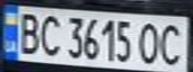1: (97, 16, 118, 62)
3: (63, 13, 84, 60)
5: (115, 17, 139, 64)
6: (81, 15, 103, 61)
B: (12, 9, 42, 55)
C: (154, 19, 187, 66), (36, 11, 63, 56)
O: (136, 19, 163, 65)
